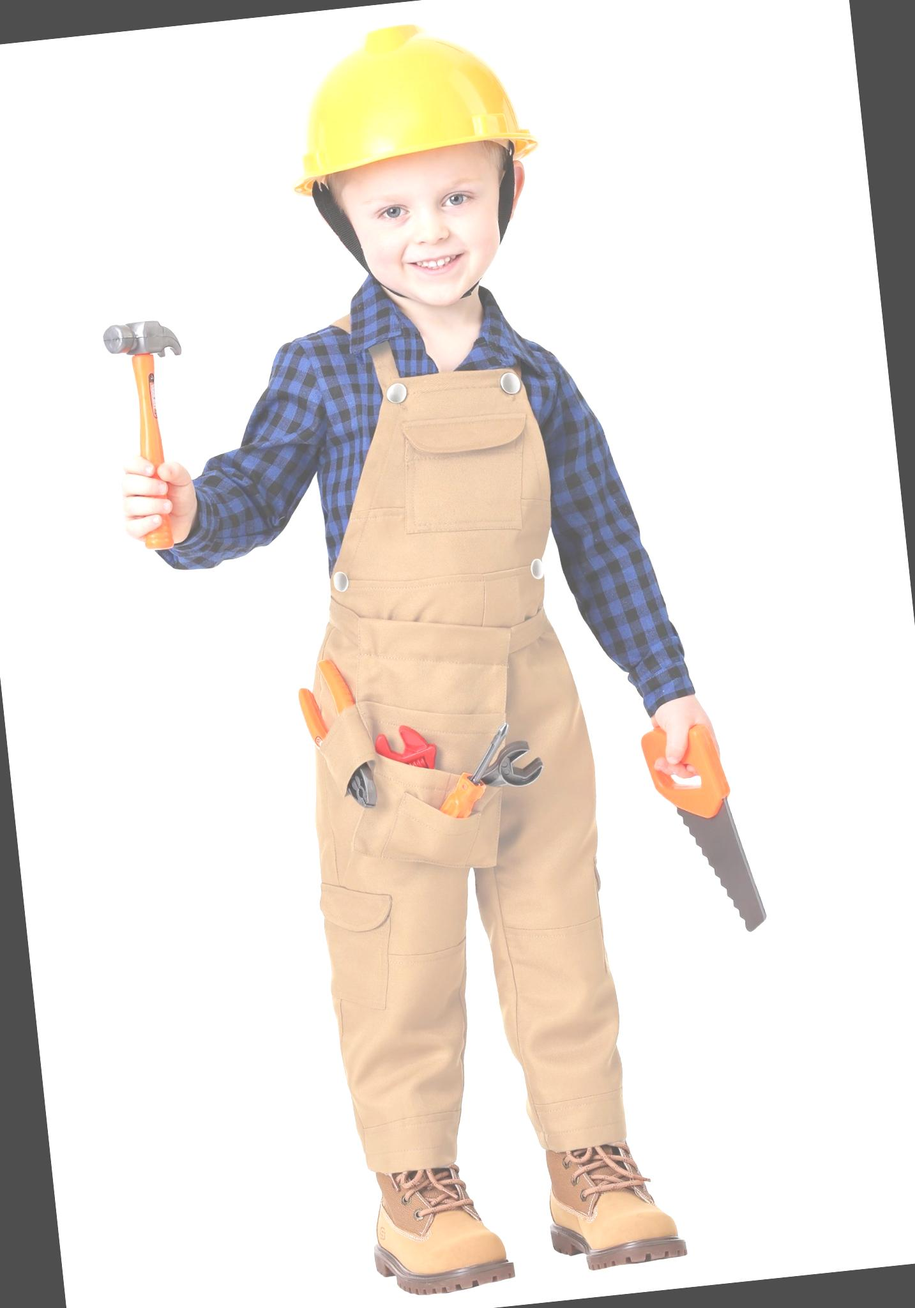helmet: (253, 31, 581, 216)
no_vest: (208, 246, 652, 1062)
person: (188, 3, 699, 1308)
